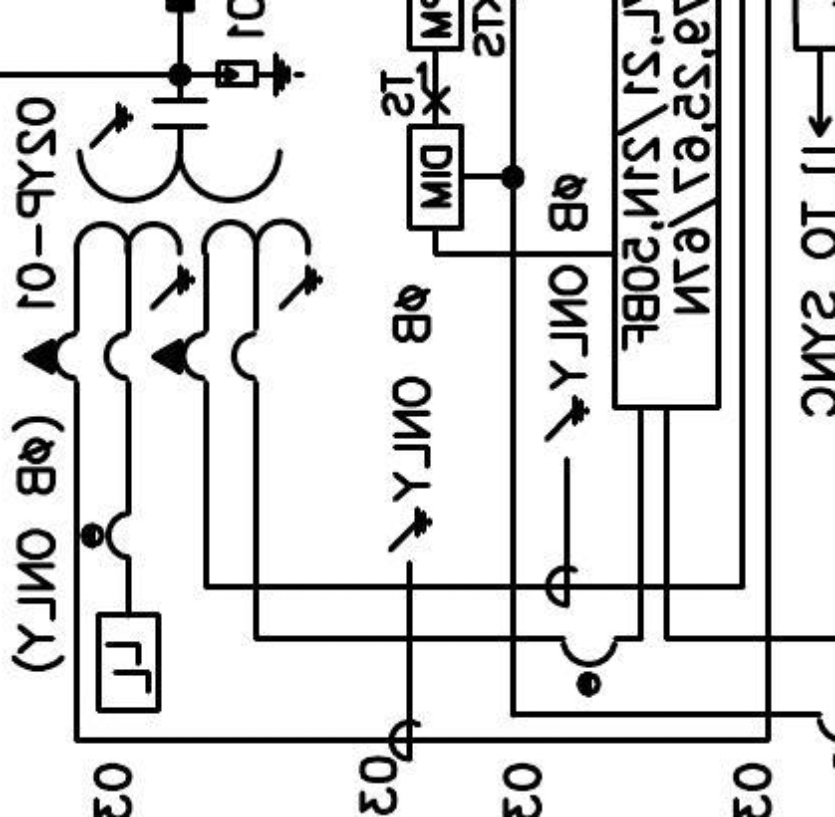115_cvt_1p: (21, 96, 325, 386)
115_la: (214, 51, 306, 99)
DIM: (406, 123, 465, 232)
LL: (95, 611, 162, 714)
